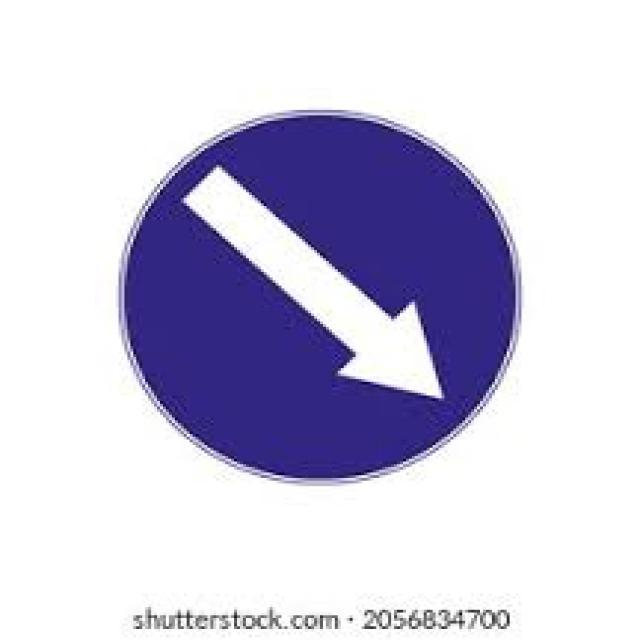compulsary keep right: (122, 114, 525, 495)
